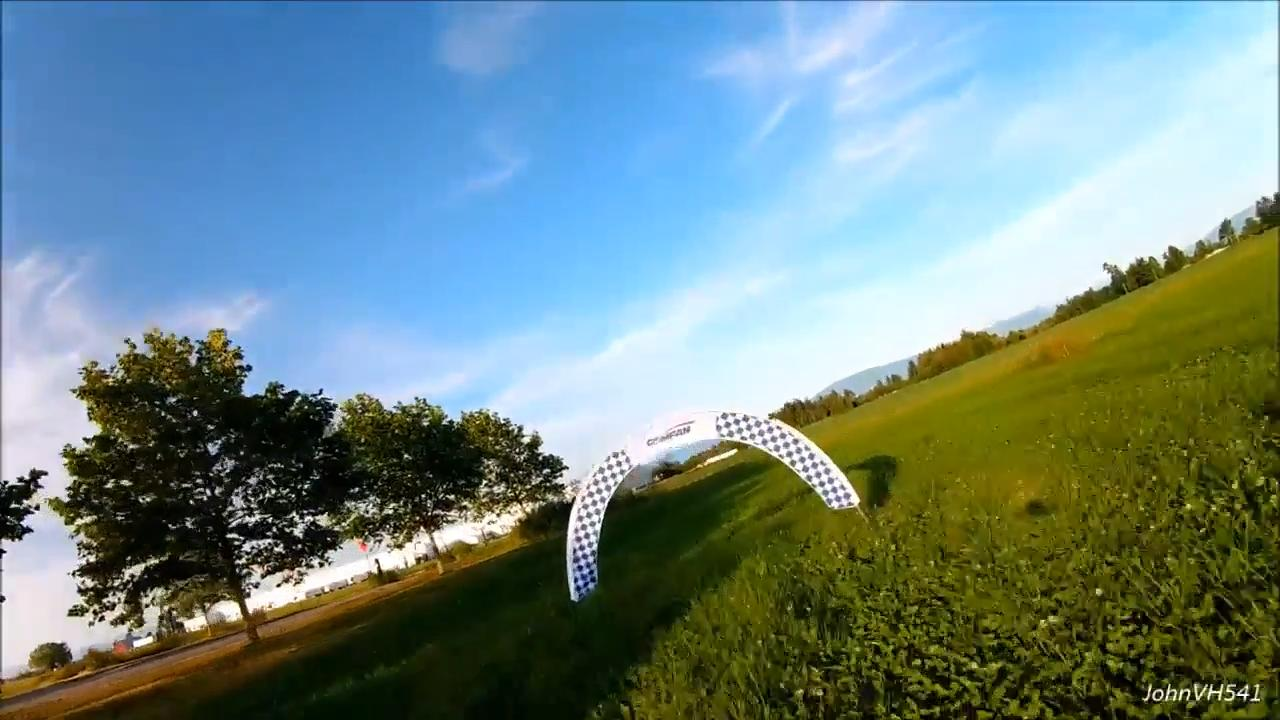gate: (560, 405, 864, 607)
